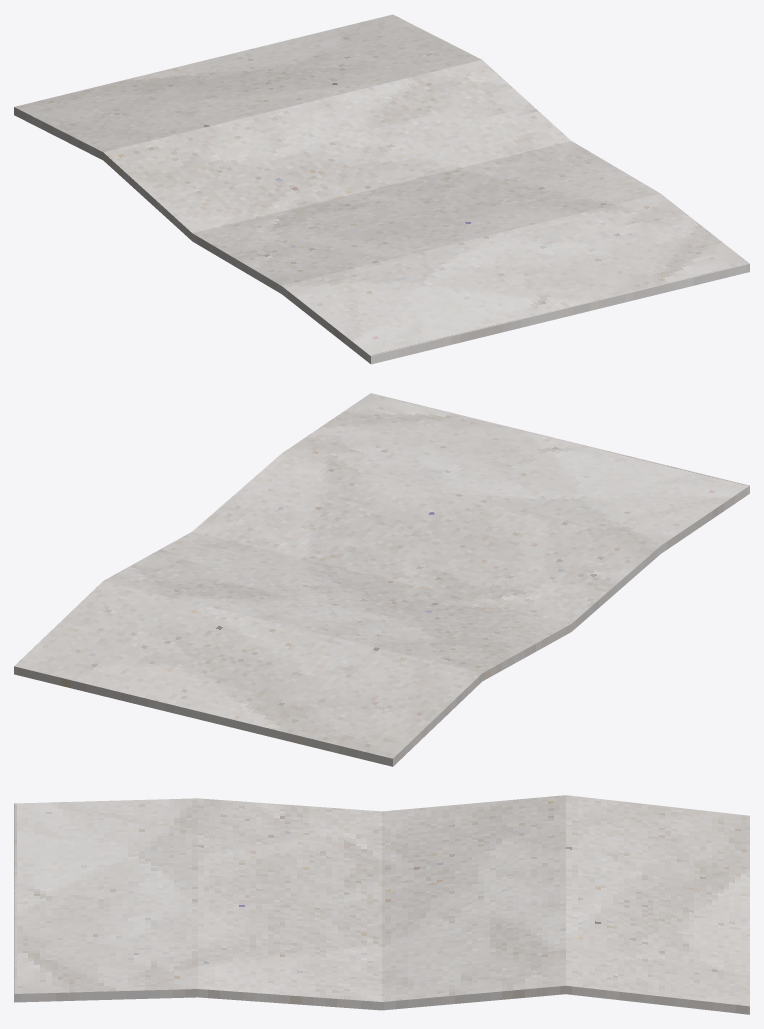
File: paper.glb
3 renders of one model, top to bottom at view 1: azimuth 30°, elevation 25°; view 2: azimuth 150°, elevation 25°; view 3: azimuth 270°, elevation 25°, orthographic. The views are drawn at different scales.
Visible parts, largest first — view 1: mail; view 2: mail; view 3: mail.
Part boxes in pixels (left/top/right/bottom): mail: left=14, top=14, right=749, bottom=364; mail: left=14, top=393, right=749, bottom=766; mail: left=14, top=795, right=749, bottom=1014.
Size of the model in its own units: 0.2075 by 0.0148 by 0.3386.
1 material, 1 textured.
